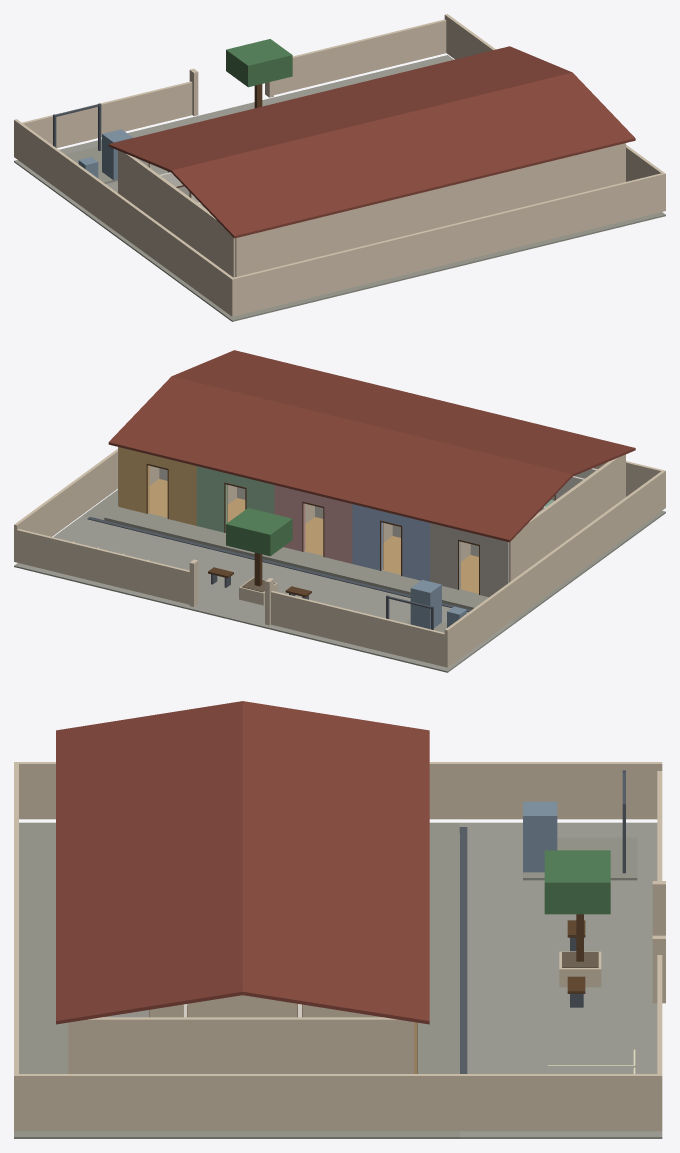
Rendered from kontrakan-row-5-v01.fbx.
3 renders of one model, top to bottom at view 1: azimuth 30°, elevation 25°; view 2: azimuth 150°, elevation 25°; view 3: azimuth 270°, elevation 25°, orthographic. The views are drawn at different scales.
Parts seen in each view (by area): view 1: Model::Roof_Rear_Removable, Model::Roof_Front_Removable, Model::Fence_Rear, Model::Fence_Right, Model::Fence_Front_Left, Model::U05_09_Exterior_Right, Model::Fence_Front_Right, Model::U02_07_Exterior_Rear, Model::U01_07_Exterior_Rear, Model::U05_07_Exterior_Rear, Model::U03_07_Exterior_Rear, Model::U04_07_Exterior_Rear (+7 smaller); view 2: Model::Roof_Front_Removable, Model::Roof_Rear_Removable, Model::Shared_Court, Model::Fence_Right, Model::Fence_Front_Left, Model::Fence_Front_Right, Model::U05_09_Exterior_Right, Model::U01_06_Exterior_Front, Model::U04_06_Exterior_Front, Model::Fence_Left, Model::U05_06_Exterior_Front, Model::U03_06_Exterior_Front (+16 smaller); view 3: Model::Roof_Front_Removable, Model::Roof_Rear_Removable, Model::Shared_Court, Model::Fence_Left, Model::U01_08_Exterior_Left, Model::Fence_Right, Model::Shared_Rear_Service, Model::Social_Tree_Canopy, Model::Side_Alley_Left, Model::U01_09_Exterior_Right, Model::Utility_Water_Tank, Model::U02_05_Terrace (+11 smaller).
Boxes of the visible parts, bbox=[...] form: Model::Roof_Rear_Removable: bbox=[171, 72, 635, 238]; Model::Roof_Front_Removable: bbox=[108, 46, 572, 172]; Model::Fence_Rear: bbox=[234, 173, 662, 315]; Model::Fence_Right: bbox=[14, 119, 235, 316]; Model::Fence_Front_Left: bbox=[266, 19, 446, 96]; Model::U05_09_Exterior_Right: bbox=[118, 150, 235, 277]; Model::Fence_Front_Right: bbox=[22, 81, 192, 147]; Model::U02_07_Exterior_Rear: bbox=[469, 162, 547, 219]; Model::U01_07_Exterior_Rear: bbox=[547, 143, 625, 200]; Model::U05_07_Exterior_Rear: bbox=[235, 219, 313, 276]; Model::U03_07_Exterior_Rear: bbox=[392, 181, 469, 238]; Model::U04_07_Exterior_Rear: bbox=[314, 200, 391, 257]; Model::Roof_Front_Removable: bbox=[108, 376, 572, 542]; Model::Roof_Rear_Removable: bbox=[172, 350, 635, 476]; Model::Shared_Court: bbox=[14, 516, 515, 672]; Model::Fence_Right: bbox=[444, 470, 665, 667]; Model::Fence_Front_Left: bbox=[17, 529, 196, 605]; Model::Fence_Front_Right: bbox=[271, 591, 444, 666]; Model::U05_09_Exterior_Right: bbox=[509, 454, 625, 582]; Model::U01_06_Exterior_Front: bbox=[118, 447, 196, 525]; Model::U04_06_Exterior_Front: bbox=[352, 504, 429, 581]; Model::Fence_Left: bbox=[14, 449, 117, 562]; Model::U05_06_Exterior_Front: bbox=[430, 523, 508, 597]; Model::U03_06_Exterior_Front: bbox=[274, 485, 352, 563]; Model::Roof_Front_Removable: bbox=[242, 701, 429, 1024]; Model::Roof_Rear_Removable: bbox=[56, 701, 242, 1024]; Model::Shared_Court: bbox=[460, 822, 662, 1138]; Model::Fence_Left: bbox=[14, 1074, 662, 1131]; Model::U01_08_Exterior_Left: bbox=[71, 1017, 414, 1073]; Model::Fence_Right: bbox=[14, 762, 662, 819]; Model::Shared_Rear_Service: bbox=[14, 822, 71, 1138]; Model::Social_Tree_Canopy: bbox=[544, 850, 610, 914]; Model::Side_Alley_Left: bbox=[71, 1131, 459, 1138]; Model::U01_09_Exterior_Right: bbox=[149, 995, 382, 1017]; Model::Utility_Water_Tank: bbox=[523, 801, 557, 872]; Model::U02_05_Terrace: bbox=[417, 1002, 459, 1058].
Bounding box in the file's own units: 19.5 × 3.92 × 17.1.
